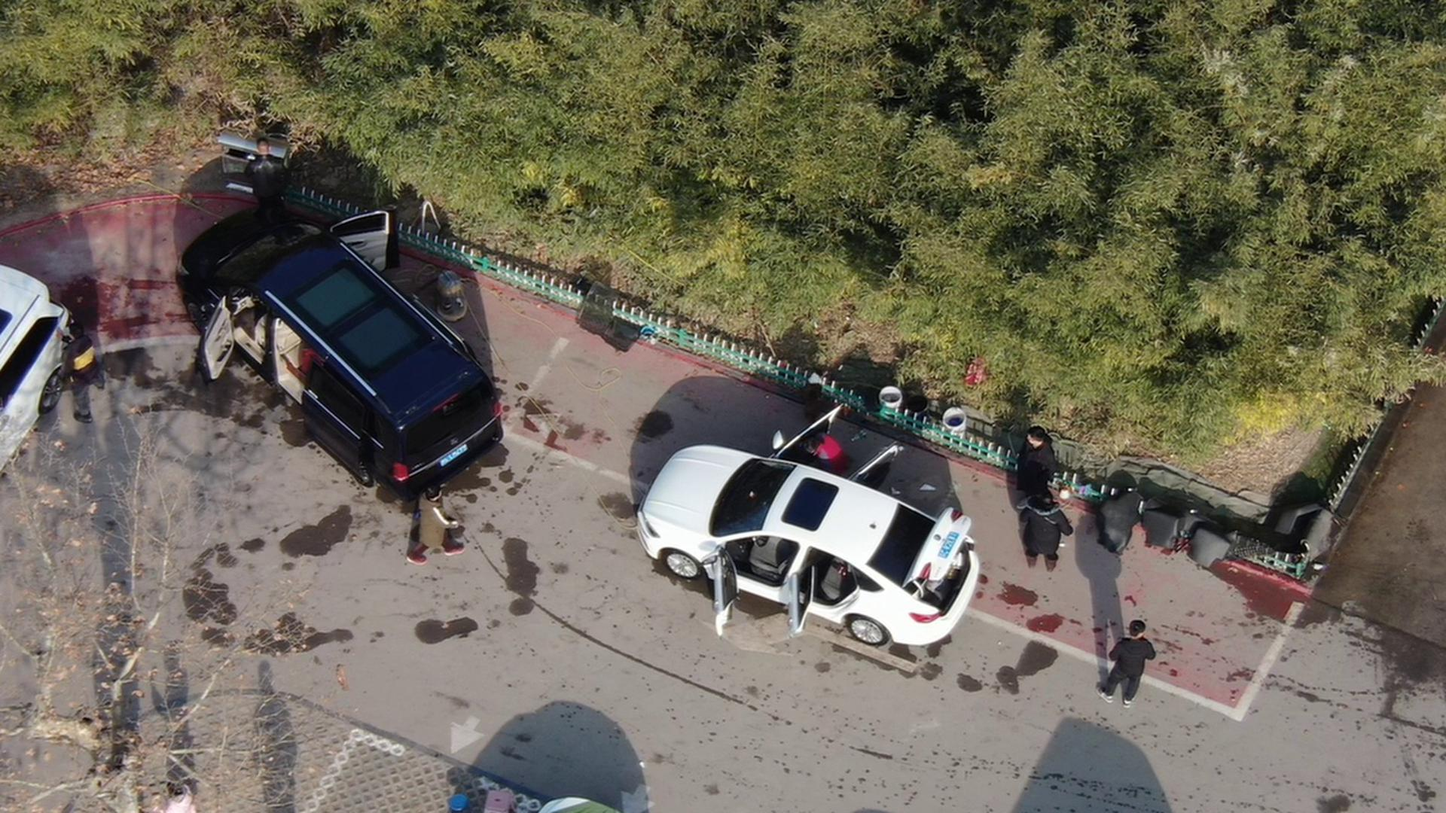human: (1091, 609, 1161, 697), (57, 318, 114, 422), (406, 488, 469, 569), (1013, 489, 1072, 572), (1014, 426, 1059, 488), (249, 133, 286, 207), (804, 422, 846, 480)
